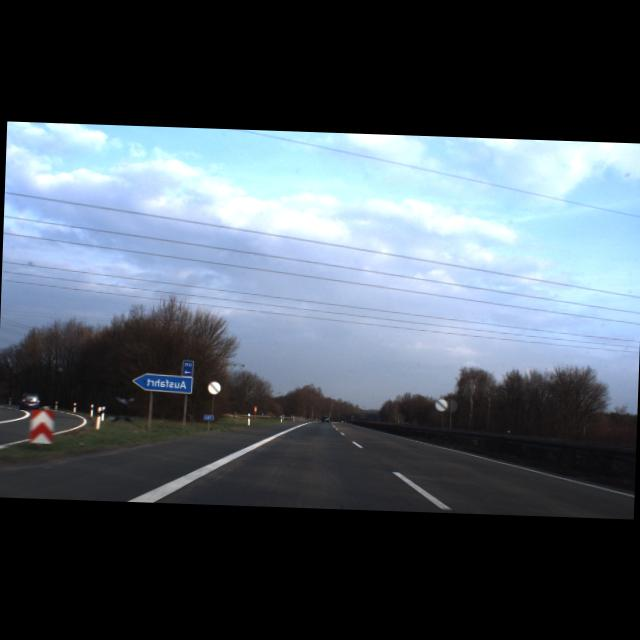other: (208, 382, 222, 396), (434, 398, 448, 411)
